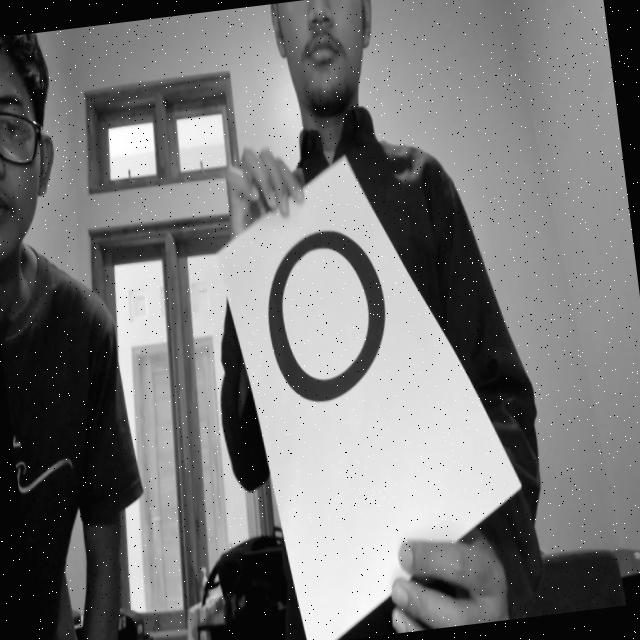o: (244, 188, 424, 458)
